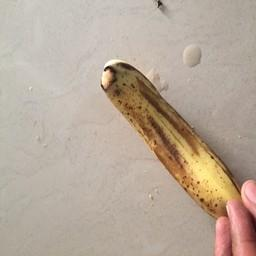Banana Ripe: (86, 52, 254, 228)
